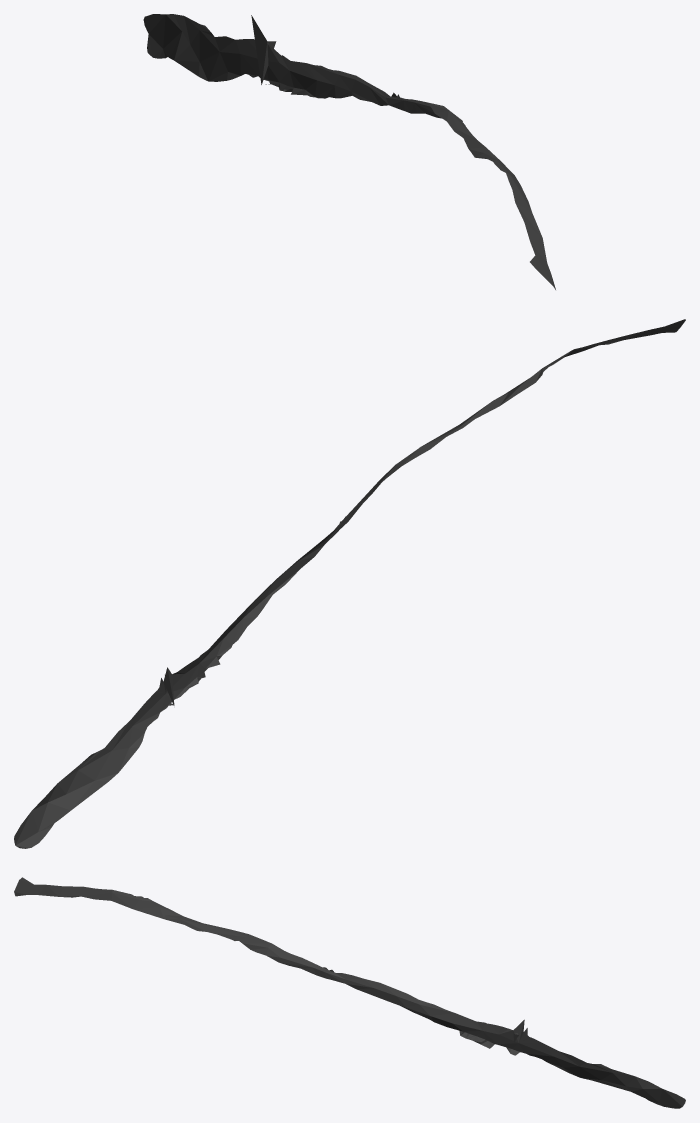
Rendered from nerve_lat_palm_dig_dorsal.glb.
3 renders of one model, top to bottom at view 1: azimuth 30°, elevation 25°; view 2: azimuth 150°, elevation 25°; view 3: azimuth 270°, elevation 25°, orthographic. The views are drawn at different scales.
Visible parts, largest first — view 1: nerve_lat_palm_dig_dorsal; view 2: nerve_lat_palm_dig_dorsal; view 3: nerve_lat_palm_dig_dorsal.
Boxes of the visible parts, x1,y1,x2,y2 form: nerve_lat_palm_dig_dorsal: [143, 14, 555, 289]; nerve_lat_palm_dig_dorsal: [14, 319, 685, 848]; nerve_lat_palm_dig_dorsal: [14, 877, 685, 1108].
Size of the model in its own units: 0.0344 by 0.0399 by 0.1434.
1 material, 1 textured.
